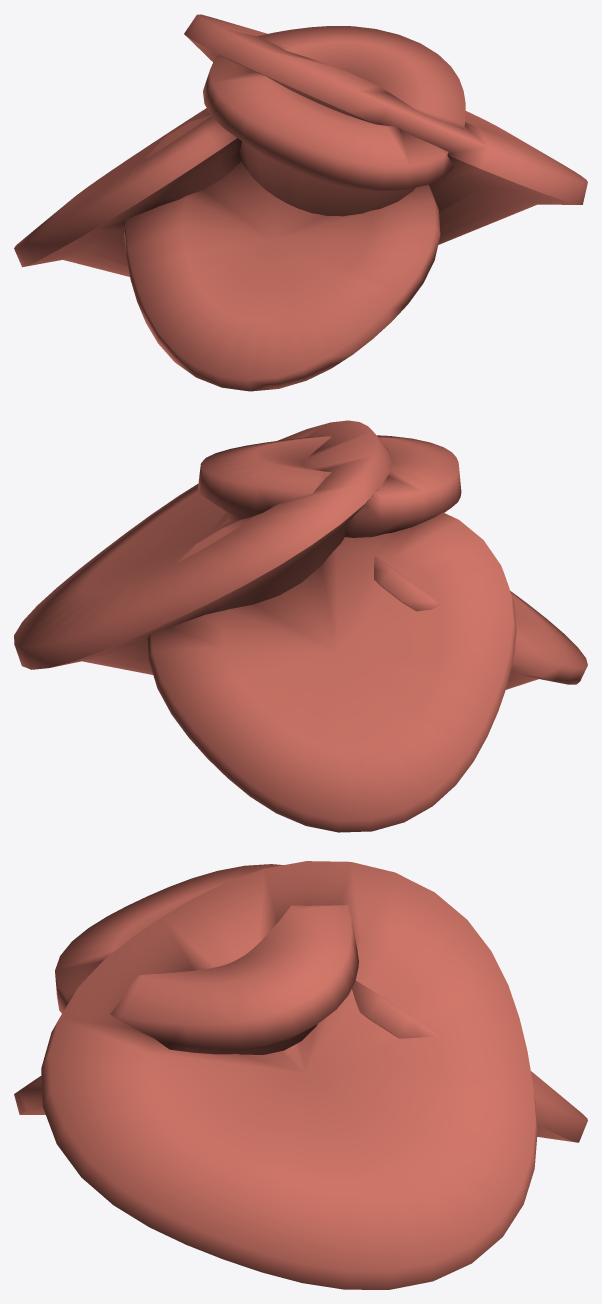
File: food_oyster.glb
3 renders of one model, top to bottom at view 1: azimuth 30°, elevation 25°; view 2: azimuth 150°, elevation 25°; view 3: azimuth 270°, elevation 25°, orthographic. The views are drawn at different scales.
Parts seen in each view (by area): view 1: PART; view 2: PART; view 3: PART.
Part boxes in pixels (x1,y1,x2,y2): PART: (14,14,587,391); PART: (14,420,587,832); PART: (14,861,587,1289).
Bounding box in the file's own units: 0.1069 × 0.0697 × 0.0971.
